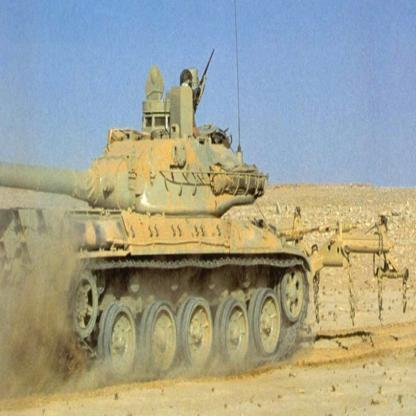Tank: (1, 78, 324, 378)
